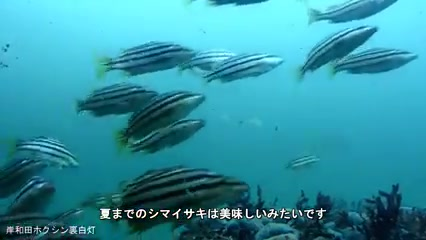bera: (112, 164, 248, 219), (285, 22, 379, 78), (116, 87, 204, 145), (99, 38, 197, 78), (207, 49, 287, 86), (335, 47, 421, 74), (81, 79, 149, 112), (20, 133, 79, 168)
